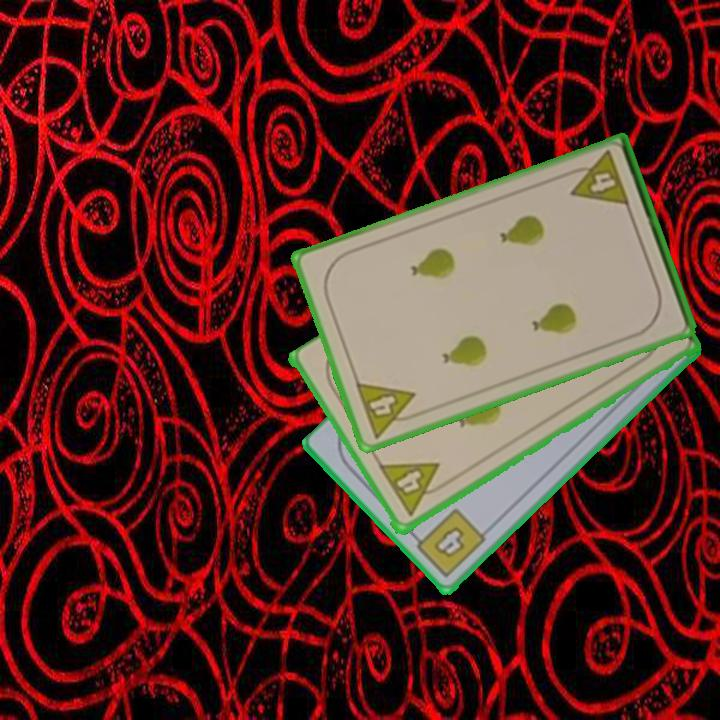4b: (407, 504, 490, 581)
4p: (376, 459, 452, 520), (352, 378, 425, 441), (562, 147, 633, 210)
